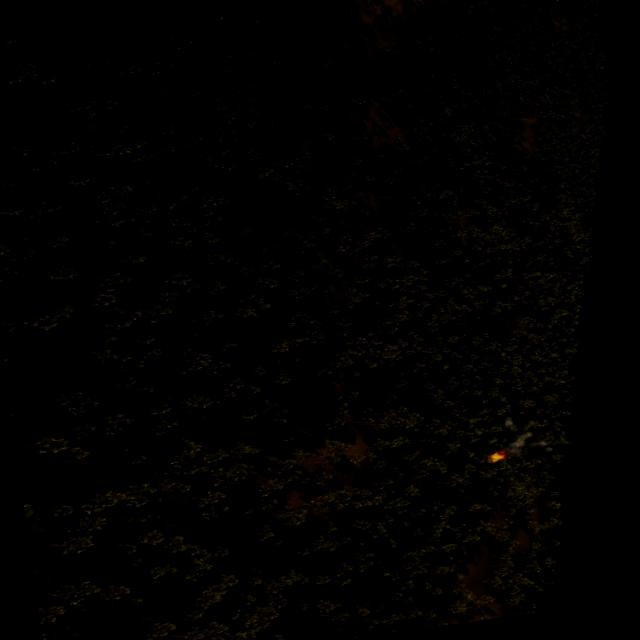fire: (488, 452, 503, 464)
smoke: (497, 406, 578, 461)
